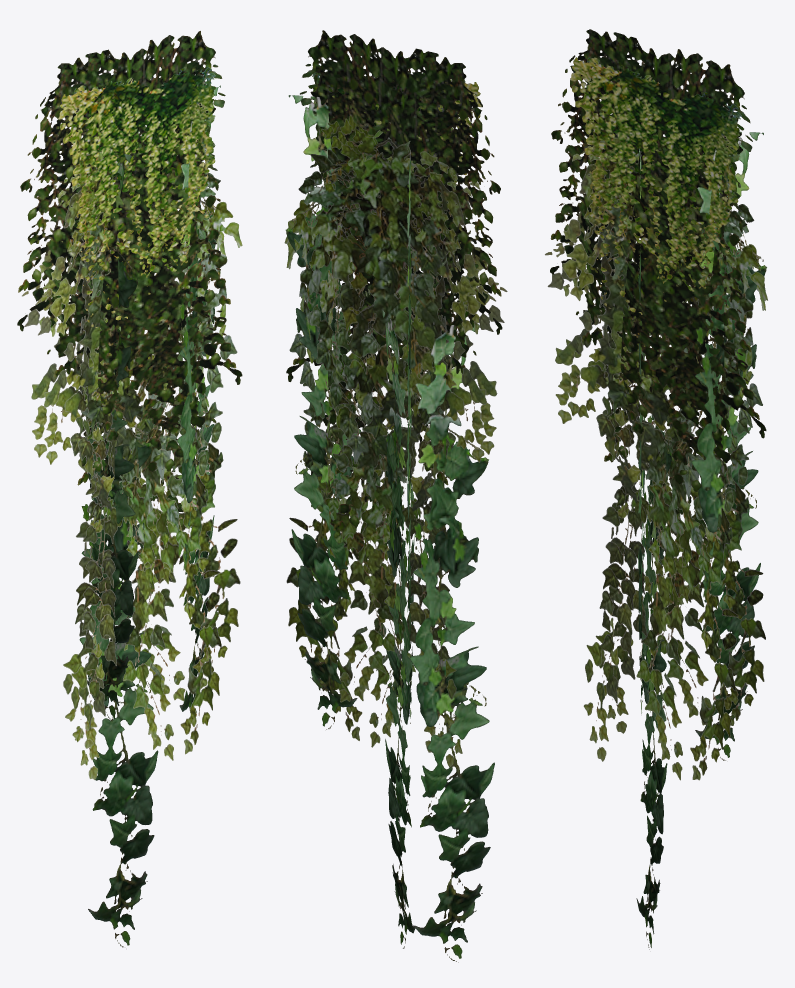
The model's file is Ivy_B.fbx.
3 views of the same model, side by side, from view 1: azimuth 30°, elevation 25°; view 2: azimuth 150°, elevation 25°; view 3: azimuth 330°, elevation 25° (orthographic).
Visible parts, largest first — view 1: Ivy_2; view 2: Ivy_2; view 3: Ivy_2.
Boxes of the visible parts, bbox=[...] form: Ivy_2: bbox=[17, 31, 242, 947]; Ivy_2: bbox=[284, 30, 507, 962]; Ivy_2: bbox=[545, 29, 767, 949].
Size of the model in its own units: 337 by 1298 by 101.
